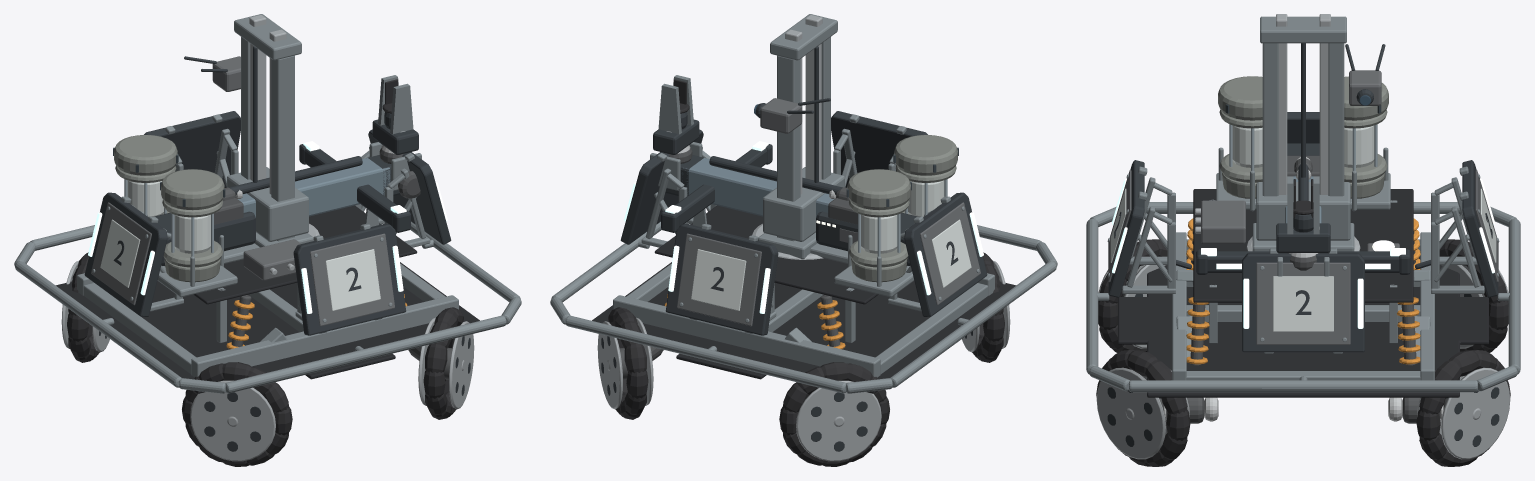
File: robot-203-spec2026v4.glb
3 renders of one model, left to right at view 1: azimuth 30°, elevation 25°; view 2: azimuth 150°, elevation 25°; view 3: azimuth 270°, elevation 25°, orthographic. The views are drawn at different scales.
Visible parts, largest first — view 1: Chassis_RobotMatteAluminum, Chassis_CarbonPlate, ArmSlew_RobotMatteAluminum, Wheel_0_MachinedAlloy, CarriedUnit_0_ProtectiveMetal, ArmorHitFace.003, ArmorModuleBody.003, Wheel_0_PolyurethaneRoller, Chassis_RobotMatteGraphite, BoomOuter, ArmorModuleBody.001, ArmorModuleBody.002 (+26 smaller); view 2: Chassis_RobotMatteAluminum, Chassis_CarbonPlate, ArmSlew_RobotMatteAluminum, Wheel_1_MachinedAlloy, CarriedUnit_1_ProtectiveMetal, ArmorHitFace.001, ArmorModuleBody.001, Wheel_1_PolyurethaneRoller, BoomOuter, Chassis_RobotMatteGraphite, ArmorModuleBody.003, ArmorModuleBody.002 (+26 smaller); view 3: Chassis_CarbonPlate, Chassis_RobotMatteAluminum, ArmSlew_RobotMatteAluminum, ArmorHitFace, Wheel_2_MachinedAlloy, Wheel_3_MachinedAlloy, ArmorModuleBody, ArmMastStage_MachinedAlloy, ArmorSticker, CarriedUnit_0_ProtectiveMetal, Wheel_2_PolyurethaneRoller, Wheel_3_PolyurethaneRoller (+28 smaller).
Part boxes in pixels (<box>): Chassis_RobotMatteAluminum: <box>14,209,521,393</box>; Chassis_CarbonPlate: <box>56,205,479,393</box>; ArmSlew_RobotMatteAluminum: <box>234,14,313,247</box>; Wheel_0_MachinedAlloy: <box>190,380,275,461</box>; CarriedUnit_0_ProtectiveMetal: <box>161,169,224,282</box>; ArmorHitFace.003: <box>310,233,394,326</box>; ArmorModuleBody.003: <box>293,223,406,335</box>; Wheel_0_PolyurethaneRoller: <box>182,362,292,466</box>; Chassis_RobotMatteGraphite: <box>154,144,410,265</box>; BoomOuter: <box>237,158,390,217</box>; ArmorModuleBody.001: <box>144,111,240,187</box>; ArmorModuleBody.002: <box>84,192,167,316</box>; Chassis_RobotMatteAluminum: <box>550,209,1057,393</box>; Chassis_CarbonPlate: <box>592,205,1015,393</box>; ArmSlew_RobotMatteAluminum: <box>758,14,837,259</box>; Wheel_1_MachinedAlloy: <box>796,380,881,461</box>; CarriedUnit_1_ProtectiveMetal: <box>847,169,910,282</box>; ArmorHitFace.001: <box>677,233,761,326</box>; ArmorModuleBody.001: <box>665,223,778,335</box>; Wheel_1_PolyurethaneRoller: <box>779,362,889,466</box>; BoomOuter: <box>682,158,834,217</box>; Chassis_RobotMatteGraphite: <box>661,144,917,265</box>; ArmorModuleBody.003: <box>831,111,927,187</box>; ArmorModuleBody.002: <box>904,192,987,316</box>; Chassis_CarbonPlate: <box>1118,189,1488,397</box>; Chassis_RobotMatteAluminum: <box>1086,147,1520,392</box>; ArmSlew_RobotMatteAluminum: <box>1252,16,1354,251</box>; ArmorHitFace: <box>1256,262,1350,344</box>; Wheel_2_MachinedAlloy: <box>1096,367,1189,459</box>; Wheel_3_MachinedAlloy: <box>1417,367,1510,459</box>; ArmorModuleBody: <box>1242,252,1364,352</box>; ArmMastStage_MachinedAlloy: <box>1276,14,1330,194</box>; ArmorSticker: <box>1273,276,1333,331</box>; CarriedUnit_0_ProtectiveMetal: <box>1218,76,1262,198</box>; Wheel_2_PolyurethaneRoller: <box>1096,350,1190,466</box>; Wheel_3_PolyurethaneRoller: <box>1416,350,1510,466</box>.
Size of the model in its own units: 0.5969 by 0.595 by 0.5969.
